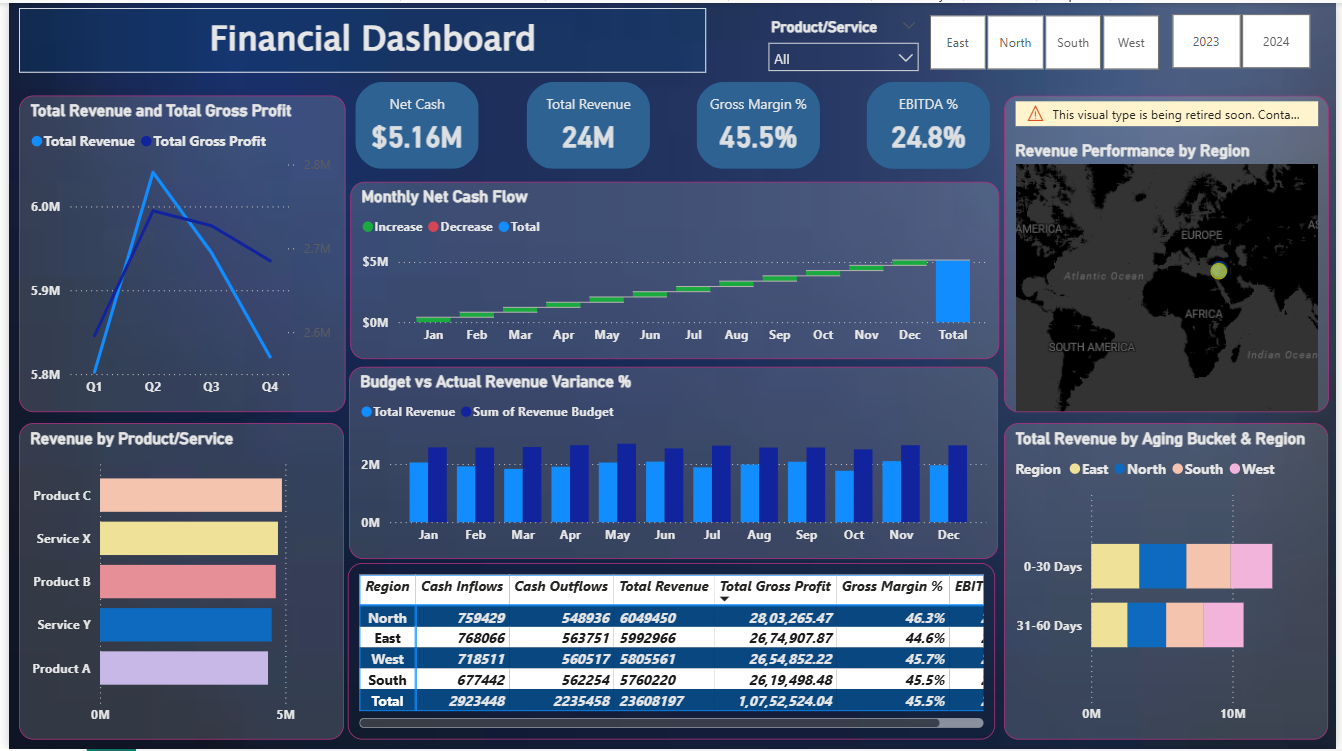

The page's visual inventory and layout, read from the dashboard file:
{"tool":"powerbi","page":{"name":"Dashboard","canvas":[1280,720],"ordinal":0},"visuals":[{"type":"barChart","title":"Total Revenue by Aging Bucket & Region","fields":{"Y":["Data Analyst -Case Study Data xlsx - Data.Total Revenue"],"Series":["Data Analyst -Case Study Data xlsx - Data.Region"],"Category":["Data Analyst -Case Study Data xlsx - Data.Aging Bucket"]},"box":[960.3,444,312.5,266.6],"z":0},{"type":"clusteredBarChart","title":"Revenue by Product/Service","fields":{"Category":["Data Analyst -Case Study Data xlsx - Data.Product/Service"],"Y":["Data Analyst -Case Study Data xlsx - Data.Total Revenue"]},"box":[10.9,442.8,313.7,267.8],"z":1000},{"type":"slicer","fields":{"Values":["Data Analyst -Case Study Data xlsx - Data.Region"]},"box":[687.7,4.8,271.4,66.4],"z":2000},{"type":"textbox","box":[9.7,4.8,663.5,62.7],"z":3000},{"type":"clusteredColumnChart","title":"Budget vs Actual Revenue Variance %","fields":{"Category":["DateTable.Time Hierarchy.Month Name"],"Y":["Data Analyst -Case Study Data xlsx - Data.Total Revenue","Sum(Data Analyst -Case Study Data xlsx - Data.Revenue Budget)"]},"box":[328.2,305.2,626.1,205.1],"z":4000},{"type":"pivotTable","fields":{"Values":["Sum(Data Analyst -Case Study Data xlsx - Data.Cash Inflows)","Sum(Data Analyst -Case Study Data xlsx - Data.Cash Outflows)","Data Analyst -Case Study Data xlsx - Data.Total Revenue","Data Analyst -Case Study Data xlsx - Data.Total Gross Profit","Data Analyst -Case Study Data xlsx - Data.Gross Margin %","Data Analyst -Case Study Data xlsx - Data.EBITDA %"],"Rows":["Data Analyst -Case Study Data xlsx - Data.Region"]},"box":[328.2,524.8,624.9,185.8],"z":5000},{"type":"cardVisual","fields":{"Data":["Data Analyst -Case Study Data xlsx - Data.Net Cash"]},"box":[195.4,77.2,129.1,94.1],"z":6000},{"type":"cardVisual","fields":{"Data":["Data Analyst -Case Study Data xlsx - Data.Gross Margin %"]},"box":[960.3,77.2,129.1,94.1],"z":7000},{"type":"cardVisual","fields":{"Data":["Data Analyst -Case Study Data xlsx - Data.EBITDA %"]},"box":[1116,77.2,129.1,94.1],"z":8000},{"type":"cardVisual","fields":{"Data":["Data Analyst -Case Study Data xlsx - Data.Total Revenue"]},"box":[38.6,77.2,129.1,94.1],"z":9000},{"type":"map","title":"Revenue Performance by Region","fields":{"Category":["Data Analyst -Case Study Data xlsx - Data.Region"],"Size":["Data Analyst -Case Study Data xlsx - Data.Total Revenue"]},"box":[959.1,172.5,313.7,265.4],"z":10000},{"type":"slicer","fields":{"Values":["DateTable.Year"]},"box":[916.9,4.8,183.4,66.4],"z":11000},{"type":"lineChart","title":"Total Revenue and Total Gross Profit","fields":{"Category":["DateTable.Time Hierarchy.Year","DateTable.Time Hierarchy.Quarter","DateTable.Time Hierarchy.Month Name"],"Y":["Data Analyst -Case Study Data xlsx - Data.Total Revenue"],"Y2":["Data Analyst -Case Study Data xlsx - Data.Total Gross Profit"]},"box":[9.7,171.3,314.9,266.6],"z":12000},{"type":"waterfallChart","title":"Monthly Net Cash Flow","fields":{"Category":["DateTable.Time Hierarchy.Month Name"],"Y":["Data Analyst -Case Study Data xlsx - Data.Net Cash"]},"box":[329.4,88.1,626.1,205],"z":13000},{"type":"slicer","fields":{"Values":["Data Analyst -Case Study Data xlsx - Data.Product/Service"]},"box":[1073.7,4.8,199.1,57.9],"z":14000}]}

Visuals, with their boxes in screenshot pixels (x1, y1, x2, y2), scaled from the page's 1280x720 canvas onto the 1342x751 screenshot:
"Total Revenue by Aging Bucket & Region" barChart: crop(1007, 463, 1334, 741)
"Revenue by Product/Service" clusteredBarChart: crop(11, 462, 340, 741)
slicer - Data Analyst -Case Study Data xlsx - Data.Region: crop(721, 5, 1006, 74)
textbox: crop(10, 5, 706, 70)
"Budget vs Actual Revenue Variance %" clusteredColumnChart: crop(344, 318, 1001, 532)
pivotTable - Sum(Data Analyst -Case Study Data xlsx - Data.Cash Inflows) x Sum(Data Analyst -Case Study Data xlsx - Data.Cash Outflows): crop(344, 547, 999, 741)
cardVisual - Data Analyst -Case Study Data xlsx - Data.Net Cash: crop(205, 81, 340, 179)
cardVisual - Data Analyst -Case Study Data xlsx - Data.Gross Margin %: crop(1007, 81, 1142, 179)
cardVisual - Data Analyst -Case Study Data xlsx - Data.EBITDA %: crop(1170, 81, 1305, 179)
cardVisual - Data Analyst -Case Study Data xlsx - Data.Total Revenue: crop(40, 81, 176, 179)
"Revenue Performance by Region" map: crop(1006, 180, 1334, 457)
slicer - DateTable.Year: crop(961, 5, 1154, 74)
"Total Revenue and Total Gross Profit" lineChart: crop(10, 179, 340, 457)
"Monthly Net Cash Flow" waterfallChart: crop(345, 92, 1002, 306)
slicer - Data Analyst -Case Study Data xlsx - Data.Product/Service: crop(1126, 5, 1334, 65)
